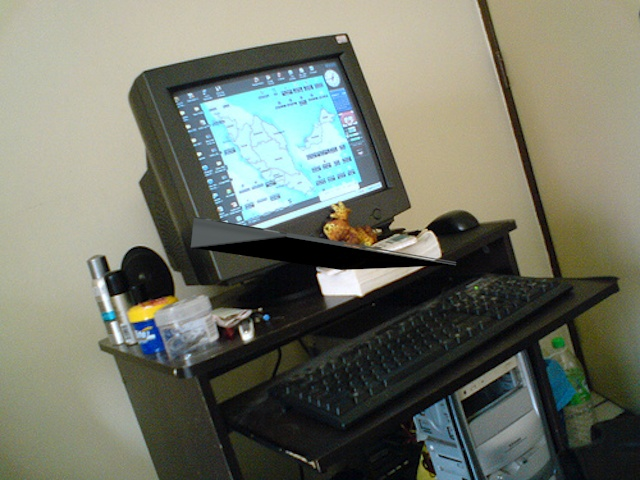ring_binder: (185, 209, 464, 272)
